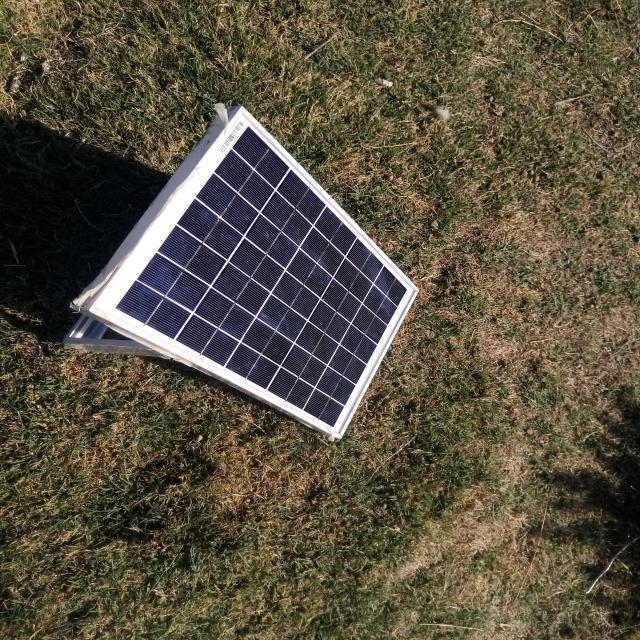Normal Solar Panel: (90, 108, 418, 437)
